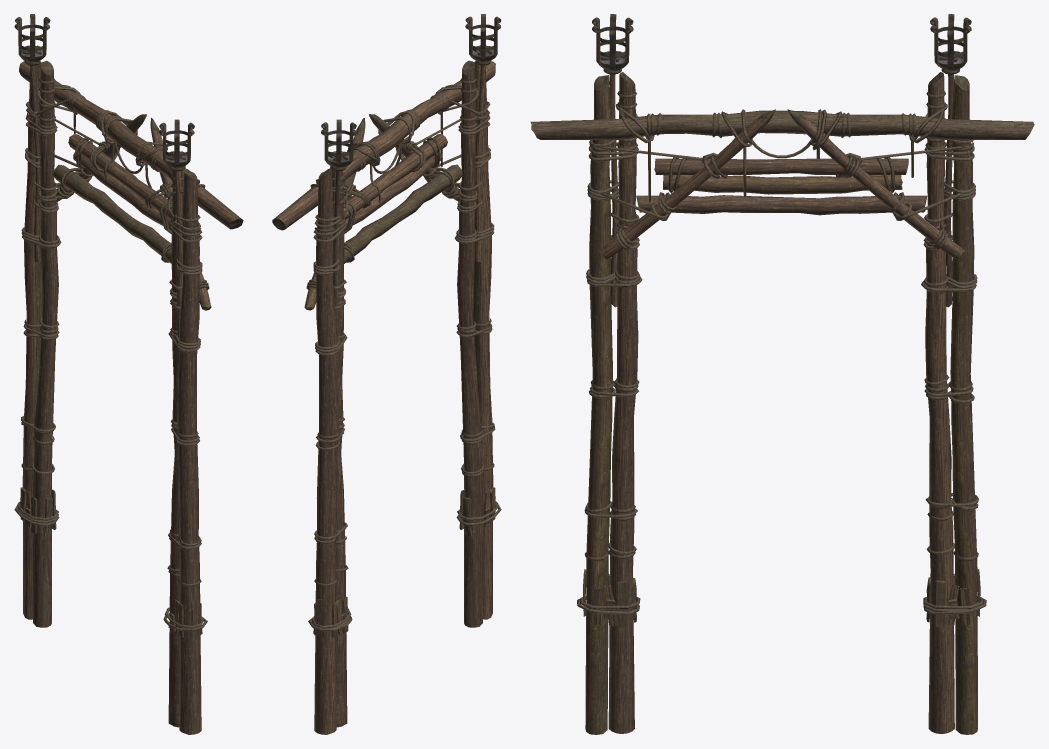
File: VIK_PRO_Gate_Entrance_01B_LOD0-transformed.glb
3 views of the same model, side by side, from view 1: azimuth 30°, elevation 25°; view 2: azimuth 150°, elevation 25°; view 3: azimuth 270°, elevation 25° (orthographic). The views are drawn at different scales.
Visible parts, largest first — view 1: default; view 2: default; view 3: default.
Boxes of the visible parts, x1,y1,x2,y2 form: default: [14, 14, 243, 734]; default: [272, 14, 501, 734]; default: [530, 14, 1034, 734].
Bounding box in the file's own units: 1.92 × 16.92 × 11.
4 materials, 4 textured.
